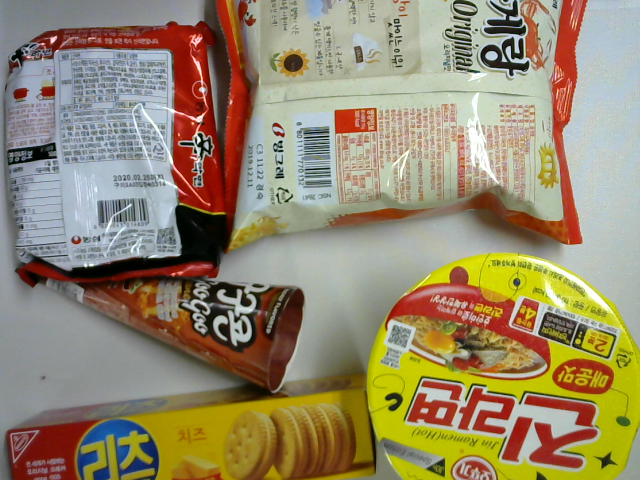Crabrang: (211, 1, 586, 255)
GooGoo_Cone_CVS: (18, 275, 307, 397)
Jinlamyeon_Hot_Taste_Large_Cup: (365, 249, 640, 480)
Ritz_Sand_Cracker: (5, 371, 375, 480)
Sinramen: (1, 18, 230, 287)
